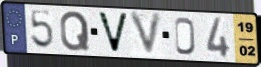0: (174, 16, 197, 56)
4: (205, 16, 232, 60)
5: (29, 9, 56, 50)
Q: (59, 9, 92, 52)
V: (127, 11, 165, 58), (95, 10, 130, 55)
